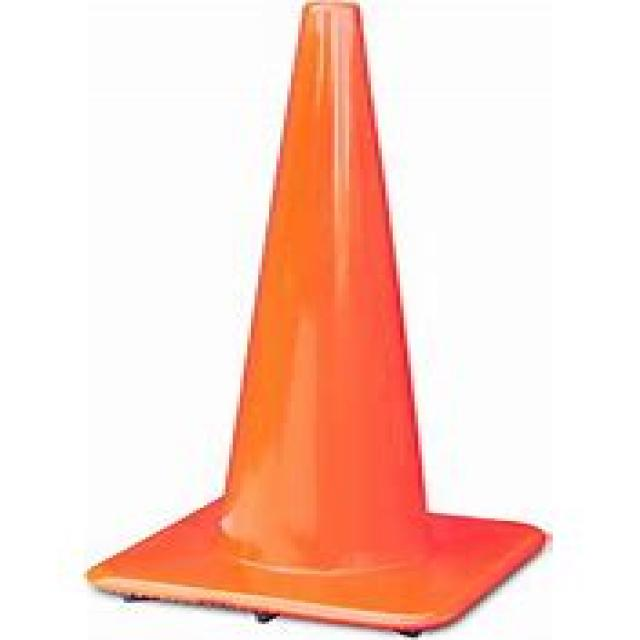traffic cone: (74, 3, 568, 640)
